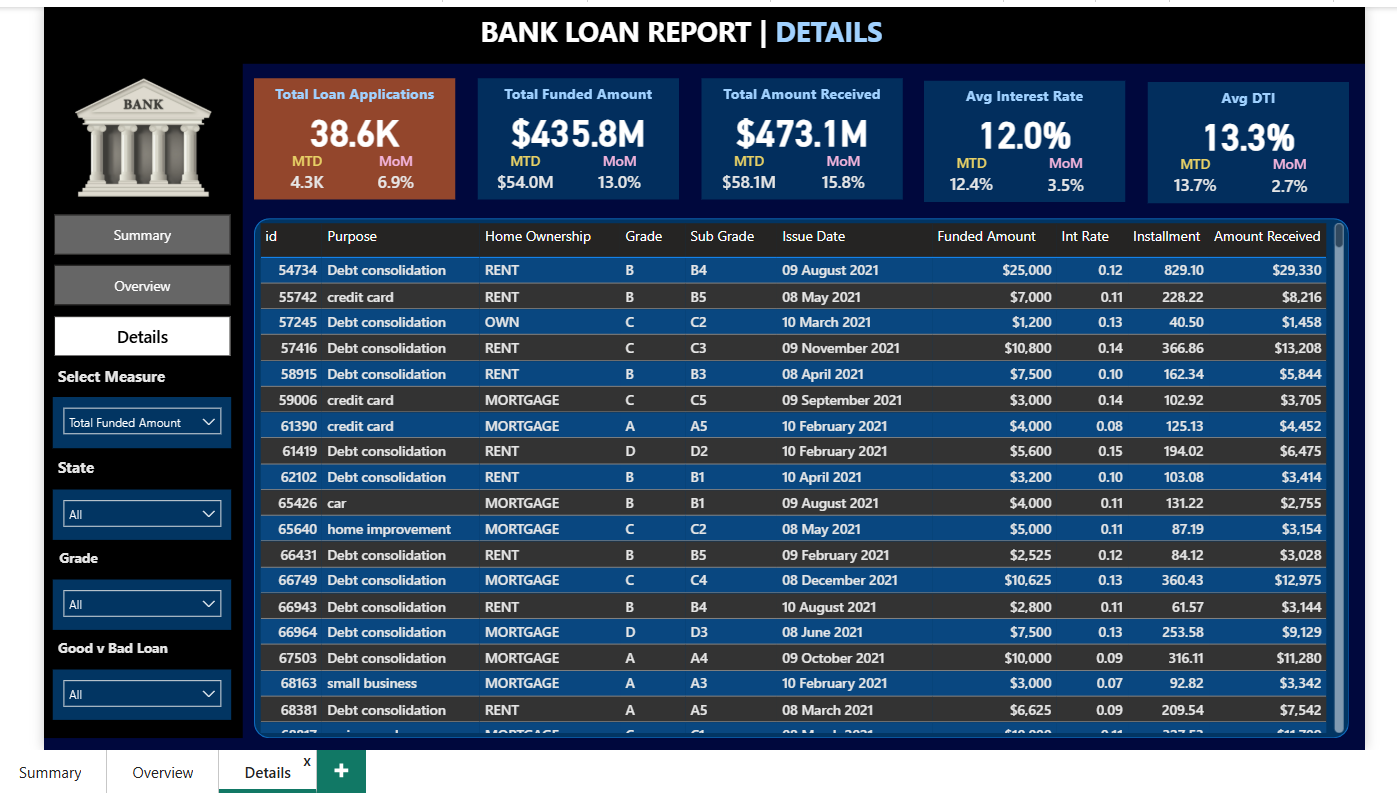

Layout of this report page (visuals, bound fields, positions):
{"tool":"powerbi","page":{"name":"Details","canvas":[1280,720],"ordinal":2},"visuals":[{"type":"shape","box":[0,42.4,192.5,665.8],"z":0},{"type":"shape","box":[203.4,69,194.9,117.4],"z":0,"group":"g1"},{"type":"shape","box":[419.7,69,194.9,117.4],"z":0,"group":"g2"},{"type":"shape","box":[636.1,69,194.9,117.4],"z":0,"group":"g3"},{"type":"shape","box":[852.5,71.4,194.9,117.4],"z":0,"group":"g4"},{"type":"shape","box":[1068.9,72.6,194.9,117.4],"z":0,"group":"g5"},{"type":"card","fields":{"Values":["bank_loan_data.Total Loan Applications"]},"box":[203.4,95.6,194.9,47.2],"z":1000,"group":"g1"},{"type":"card","fields":{"Values":["bank_loan_data.Total Funded Amount"]},"box":[419.7,95.6,194.9,47.2],"z":1000,"group":"g2"},{"type":"card","fields":{"Values":["bank_loan_data.Total Amount Received"]},"box":[636.1,95.6,194.9,47.2],"z":1000,"group":"g3"},{"type":"card","fields":{"Values":["bank_loan_data.Avg Interest Rate"]},"box":[852.5,98,194.9,47.2],"z":1000,"group":"g4"},{"type":"card","fields":{"Values":["bank_loan_data.Avg DTI"]},"box":[1068.9,99.2,194.9,47.2],"z":1000,"group":"g5"},{"type":"shape","box":[203.4,204.6,1060.4,503.6],"z":1000},{"type":"shape","box":[0,0,1280.3,55],"z":2000},{"type":"textbox","box":[203.4,69,194.9,35.1],"z":2000,"group":"g1"},{"type":"textbox","box":[419.7,69,194.9,35.1],"z":2000,"group":"g2"},{"type":"textbox","box":[636.1,69,194.9,35.1],"z":2000,"group":"g3"},{"type":"textbox","box":[852.5,71.4,194.9,35.1],"z":2000,"group":"g4"},{"type":"textbox","box":[1068.9,72.6,194.9,35.1],"z":2000,"group":"g5"},{"type":"textbox","box":[417.6,0,444.3,55.7],"z":3000},{"type":"card","title":"MTD","fields":{"Values":["bank_loan_data.MTD Funded Amount"]},"box":[427.8,139,75.1,46],"z":3000,"group":"g2"},{"type":"card","title":"MTD","fields":{"Values":["bank_loan_data.MTD Total Amount Received"]},"box":[644.2,139,75.1,46],"z":3000,"group":"g3"},{"type":"card","title":"MTD","fields":{"Values":["bank_loan_data.MTD Loan Applications"]},"box":[224,139.2,61.7,47.2],"z":3000,"group":"g1"},{"type":"card","title":"MTD","fields":{"Values":["bank_loan_data.MTD Avg Int Rate"]},"box":[860.6,141.4,75.1,46],"z":3000,"group":"g4"},{"type":"card","title":"MTD","fields":{"Values":["bank_loan_data.MTD Avg DTI"]},"box":[1077,142.6,75.1,46],"z":3000,"group":"g5"},{"type":"group","id":"g1","title":"Group 1","box":[203.4,69,194.9,117.4],"z":4000},{"type":"card","title":"MoM","fields":{"Values":["bank_loan_data.MoM Loan Applications"]},"box":[309.9,139.2,61.7,47.2],"z":4000,"group":"g1"},{"type":"card","title":"MoM","fields":{"Values":["bank_loan_data.MoM Total Funded Amount"]},"box":[526.2,139.2,61.7,47.2],"z":4000,"group":"g2"},{"type":"card","title":"MoM","fields":{"Values":["bank_loan_data.MoM Total Amount Received"]},"box":[742.6,139.2,61.7,47.2],"z":4000,"group":"g3"},{"type":"card","title":"MoM","fields":{"Values":["bank_loan_data.MoM Avg Int Rate"]},"box":[959,141.6,61.7,47.2],"z":4000,"group":"g4"},{"type":"card","title":"MoM","fields":{"Values":["bank_loan_data.MoM Avg DTI"]},"box":[1175.4,142.8,61.7,47.2],"z":4000,"group":"g5"},{"type":"group","id":"g2","title":"Group 1","box":[419.7,69,194.9,117.4],"z":5000},{"type":"group","id":"g3","title":"Group 1","box":[636.1,69,194.9,117.4],"z":6000},{"type":"group","id":"g4","title":"Group 1","box":[852.5,71.4,194.9,117.4],"z":7000},{"type":"group","id":"g5","title":"Group 1","box":[1068.9,72.6,194.9,117.4],"z":8000},{"type":"slicer","fields":{"Values":["bank_loan_data.address_state"]},"box":[8.5,466.7,173.1,48.4],"z":9000},{"type":"textbox","box":[8.5,431.5,69,31.5],"z":10000},{"type":"slicer","fields":{"Values":["bank_loan_data.grade"]},"box":[8.5,554.1,173.1,48.4],"z":11000},{"type":"textbox","box":[9.7,518.9,69,31.5],"z":12000},{"type":"slicer","fields":{"Values":["bank_loan_data.Good v Bad Loan"]},"box":[8.5,641.6,173.1,48.4],"z":13000},{"type":"textbox","box":[8.5,606.3,152.5,31.5],"z":14000},{"type":"slicer","fields":{"Values":["Select Measure.Select Measure"]},"box":[8.5,378.1,173.1,49.6],"z":15000},{"type":"textbox","box":[8.5,342.8,141.6,31.5],"z":16000},{"type":"tableEx","fields":{"Values":["bank_loan_data.id","bank_loan_data.purpose","bank_loan_data.home_ownership","bank_loan_data.grade","bank_loan_data.sub_grade","bank_loan_data.issue_date","bank_loan_data.Total Funded Amount","Sum(bank_loan_data.int_rate)","Sum(bank_loan_data.installment)","bank_loan_data.Total Amount Received"]},"box":[203.4,204.6,1060.4,503.6],"z":17000},{"type":"pageNavigator","box":[9.7,201.1,171.9,138],"z":18000},{"type":"image","box":[25.4,55.7,141.6,141.6],"z":19000}]}

Visuals, with their boxes on the page's 1280x720 design canvas (x1, y1, x2, y2). These are canvas units, not pixel positions in the 1397x793 screenshot, which may show the page scaled, cropped or inside an application window:
shape: Rect(0, 42, 192, 708)
shape: Rect(203, 69, 398, 186)
shape: Rect(420, 69, 615, 186)
shape: Rect(636, 69, 831, 186)
shape: Rect(852, 71, 1047, 189)
shape: Rect(1069, 73, 1264, 190)
card - bank_loan_data.Total Loan Applications: Rect(203, 96, 398, 143)
card - bank_loan_data.Total Funded Amount: Rect(420, 96, 615, 143)
card - bank_loan_data.Total Amount Received: Rect(636, 96, 831, 143)
card - bank_loan_data.Avg Interest Rate: Rect(852, 98, 1047, 145)
card - bank_loan_data.Avg DTI: Rect(1069, 99, 1264, 146)
shape: Rect(203, 205, 1264, 708)
shape: Rect(0, 0, 1280, 55)
textbox: Rect(203, 69, 398, 104)
textbox: Rect(420, 69, 615, 104)
textbox: Rect(636, 69, 831, 104)
textbox: Rect(852, 71, 1047, 106)
textbox: Rect(1069, 73, 1264, 108)
textbox: Rect(418, 0, 862, 56)
"MTD" card: Rect(428, 139, 503, 185)
"MTD" card: Rect(644, 139, 719, 185)
"MTD" card: Rect(224, 139, 286, 186)
"MTD" card: Rect(861, 141, 936, 187)
"MTD" card: Rect(1077, 143, 1152, 189)
"Group 1" group: Rect(203, 69, 398, 186)
"MoM" card: Rect(310, 139, 372, 186)
"MoM" card: Rect(526, 139, 588, 186)
"MoM" card: Rect(743, 139, 804, 186)
"MoM" card: Rect(959, 142, 1021, 189)
"MoM" card: Rect(1175, 143, 1237, 190)
"Group 1" group: Rect(420, 69, 615, 186)
"Group 1" group: Rect(636, 69, 831, 186)
"Group 1" group: Rect(852, 71, 1047, 189)
"Group 1" group: Rect(1069, 73, 1264, 190)
slicer - bank_loan_data.address_state: Rect(8, 467, 182, 515)
textbox: Rect(8, 432, 78, 463)
slicer - bank_loan_data.grade: Rect(8, 554, 182, 602)
textbox: Rect(10, 519, 79, 550)
slicer - bank_loan_data.Good v Bad Loan: Rect(8, 642, 182, 690)
textbox: Rect(8, 606, 161, 638)
slicer - Select Measure.Select Measure: Rect(8, 378, 182, 428)
textbox: Rect(8, 343, 150, 374)
tableEx - bank_loan_data.id x bank_loan_data.purpose: Rect(203, 205, 1264, 708)
pageNavigator: Rect(10, 201, 182, 339)
image: Rect(25, 56, 167, 197)
